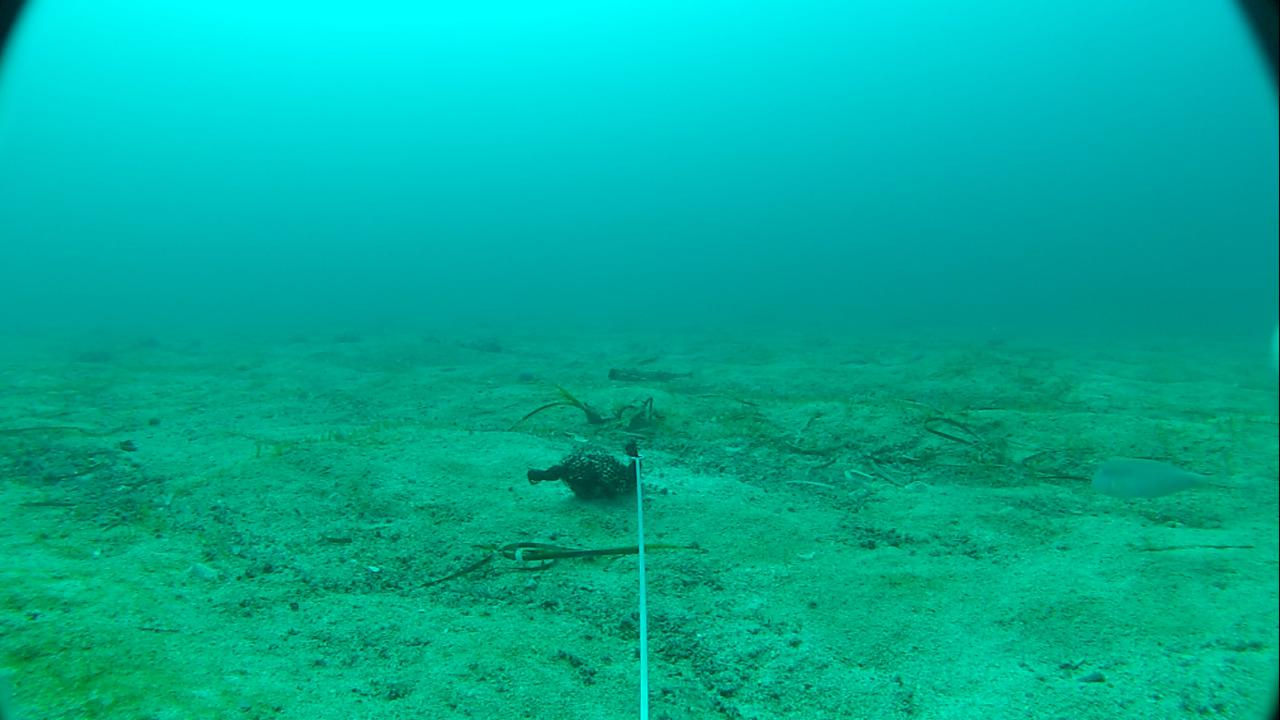dactylopterus: (601, 358, 697, 389)
raor: (1084, 451, 1208, 502)
